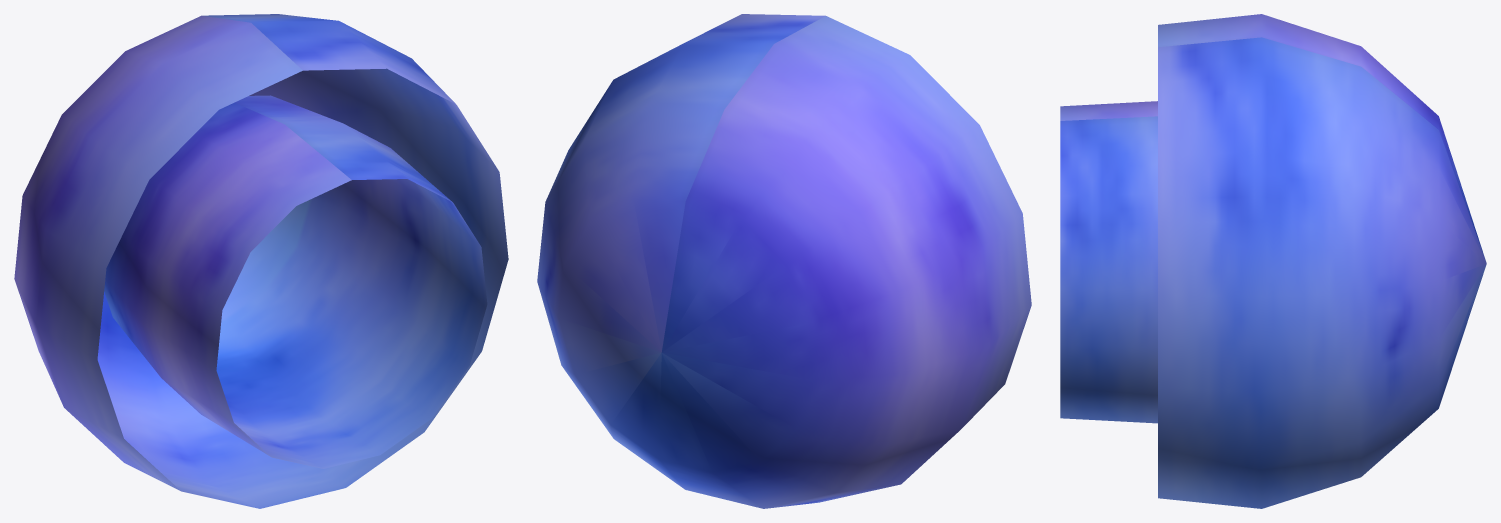
File: effect2.FBX
The picture shows the model from 3 angles, left to right: view 1: azimuth 30°, elevation 25°; view 2: azimuth 150°, elevation 25°; view 3: azimuth 270°, elevation 25°; orthographic projection.
Visible parts, largest first — view 1: Sphere001; view 2: Sphere001; view 3: Sphere001.
Part boxes in pixels (x1,y1,x2,y2): Sphere001: (14,14,508,508); Sphere001: (537,14,1031,508); Sphere001: (1060,14,1486,508).
Size of the model in its own units: 1.11 by 1.1 by 0.9532.
Materials: 1 (1 with a texture image).
